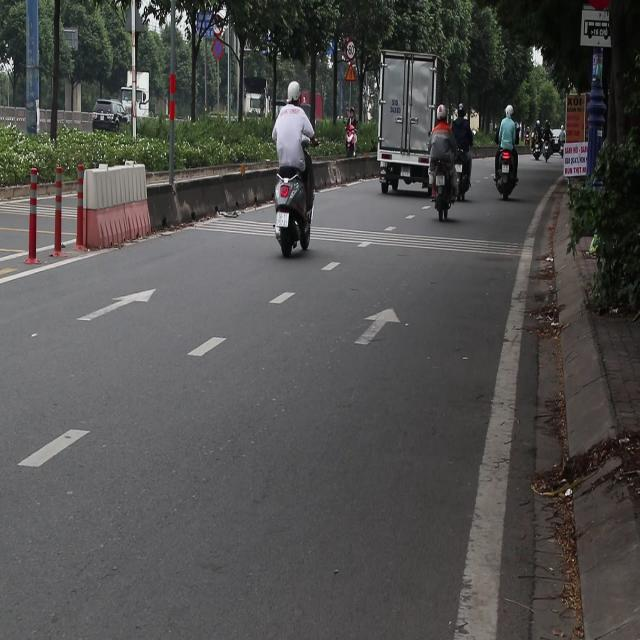car: (92, 100, 130, 134)
motorbike: (272, 160, 316, 260), (424, 146, 446, 229), (496, 144, 520, 198), (337, 113, 356, 165), (544, 131, 564, 160), (530, 134, 543, 158)
truck: (378, 53, 443, 197), (118, 87, 148, 114)
